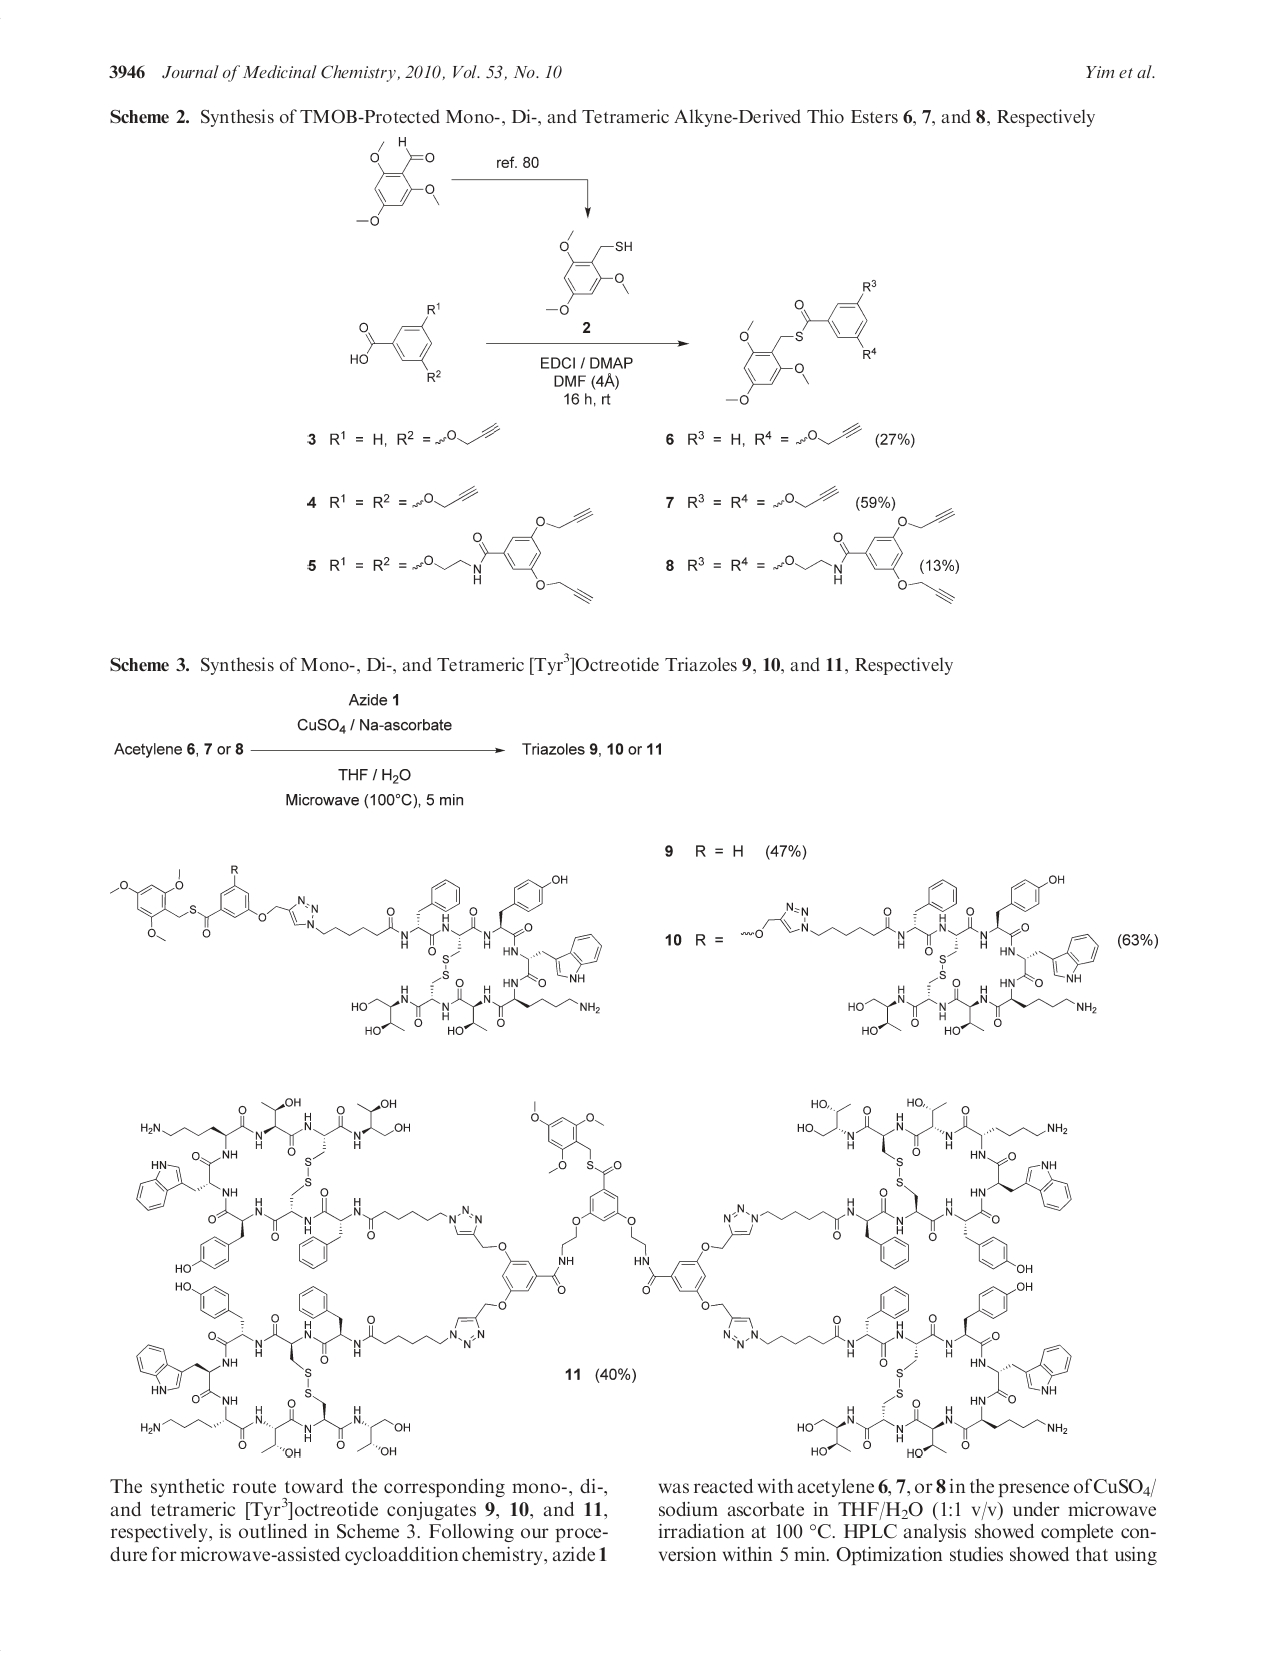exist_molecular: (121, 1089, 1078, 1462), (106, 863, 601, 1039), (739, 872, 1102, 1040), (723, 273, 882, 406), (410, 503, 597, 609), (769, 505, 960, 606), (348, 297, 451, 384), (350, 136, 442, 227), (544, 227, 634, 317), (434, 418, 501, 449), (411, 483, 484, 509)
